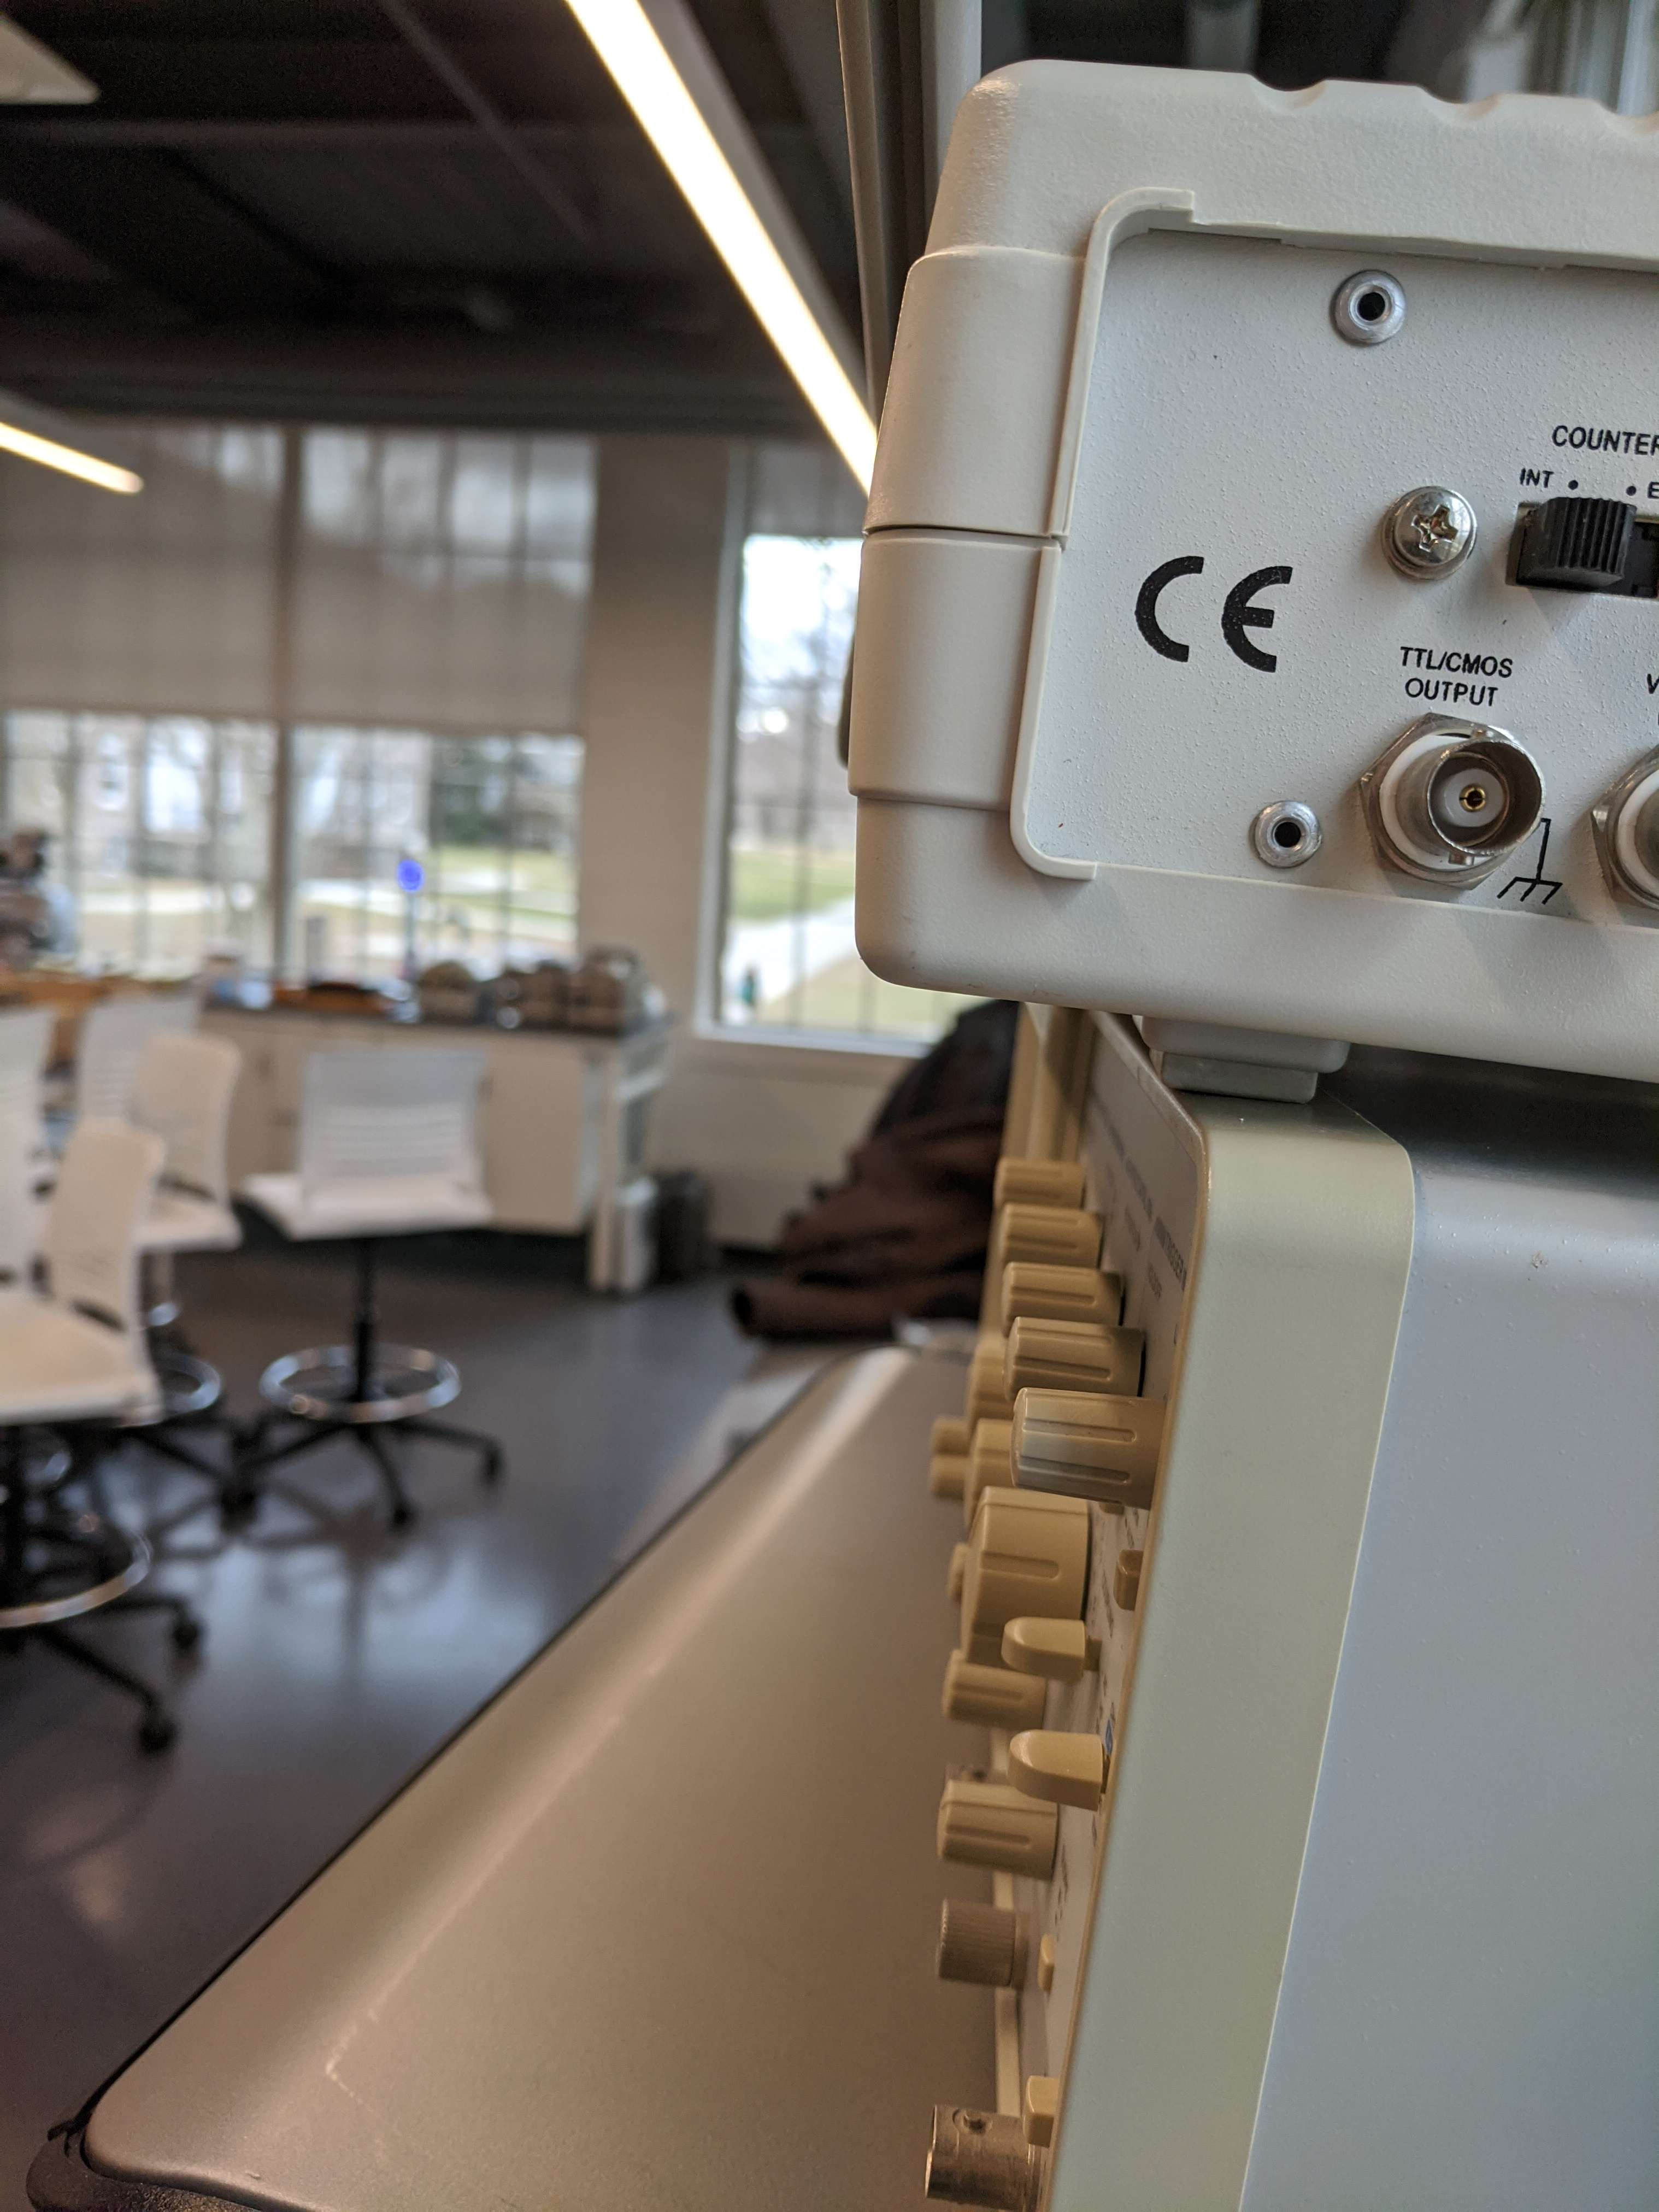cross_recessed_screw: (1385, 465, 1480, 577)
